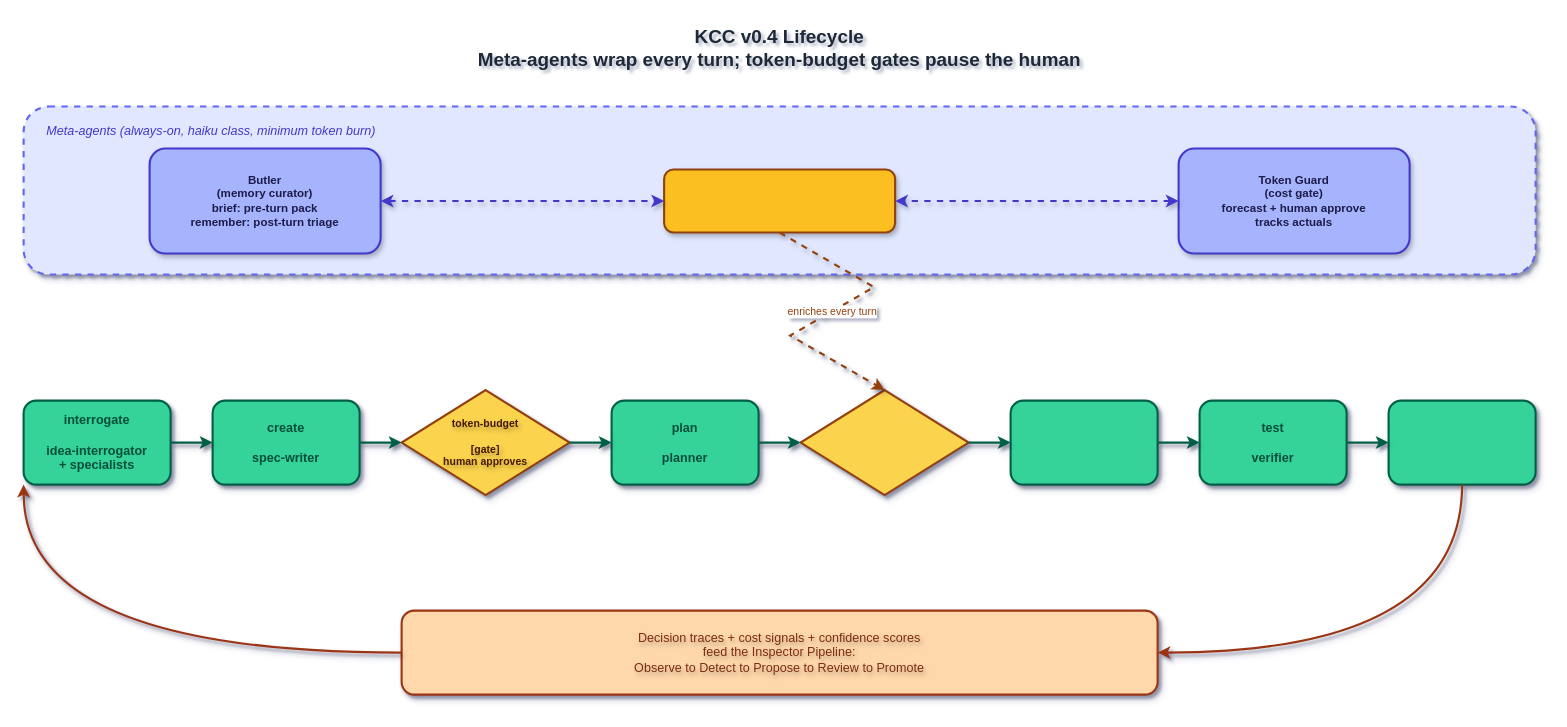
This 1567x727 diagram has some shape labels left out. Here are the shapes that lost their labels. From the top down, the centre of each, then its label:
pixel 780 202: coordination/ backchannel.jsonl (append-only, 9 event kinds)
pixel 885 443: token-budget [gate] refined estimate
pixel 1084 443: implement implementer
pixel 1462 443: review verifier APPROVED/CHANGES
